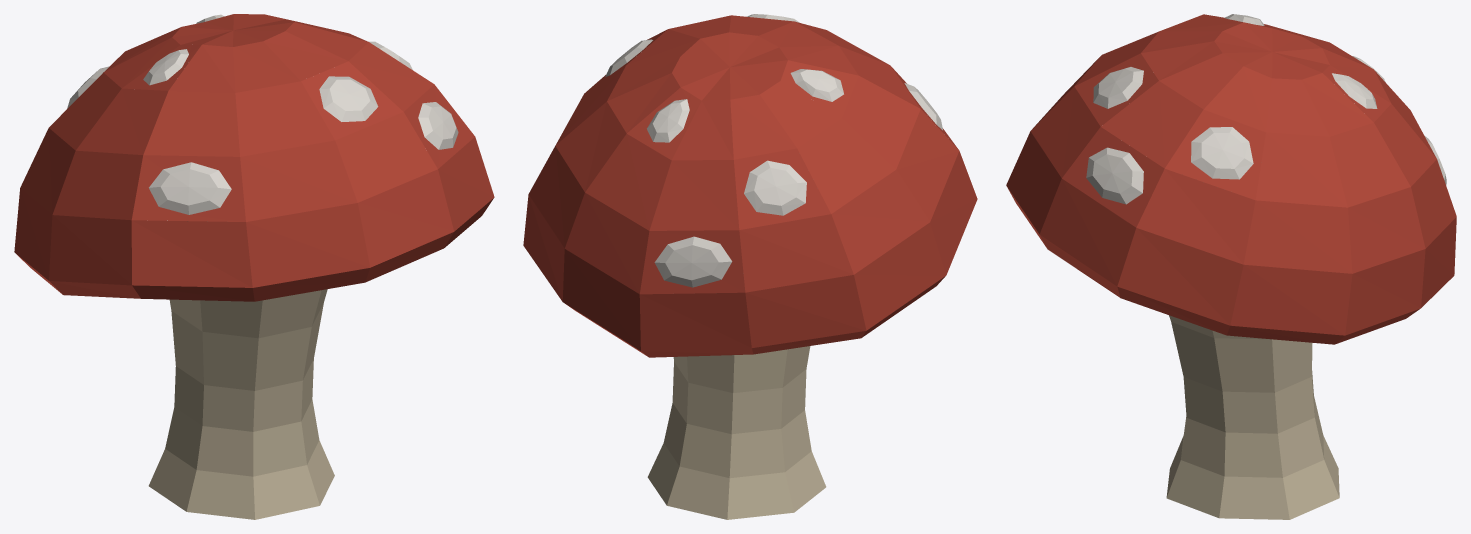
File: toadstool-257a4a.glb
The picture shows the model from 3 angles, left to right: view 1: azimuth 30°, elevation 25°; view 2: azimuth 150°, elevation 25°; view 3: azimuth 270°, elevation 25°; orthographic projection. The views are drawn at different scales.
Visible parts, largest first — view 1: toadstool-mesh; view 2: toadstool-mesh; view 3: toadstool-mesh.
Part boxes in pixels (x1,y1,x2,y2): toadstool-mesh: [14, 14, 494, 519]; toadstool-mesh: [523, 14, 977, 519]; toadstool-mesh: [1006, 14, 1456, 519].
Bounding box in the file's own units: 0.3255 × 0.35 × 0.3231.
